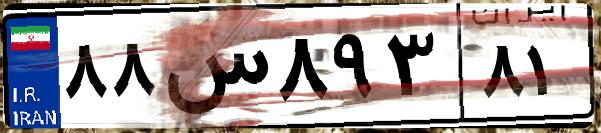1: (525, 38, 570, 115)
3: (385, 28, 445, 110)
8: (270, 28, 330, 110), (57, 26, 110, 100), (475, 38, 525, 113), (110, 28, 158, 98)
9: (330, 28, 385, 110)
س: (158, 20, 270, 120)
